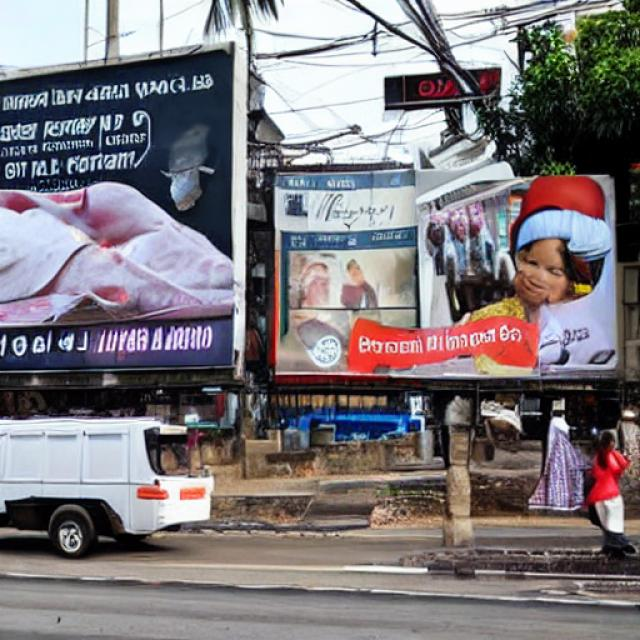Billboard: (0, 40, 238, 377), (267, 169, 626, 389)
